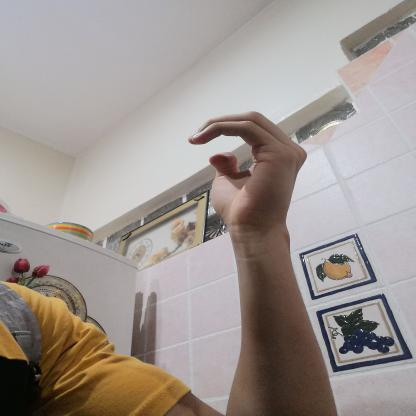JEEM: (169, 103, 326, 242)
